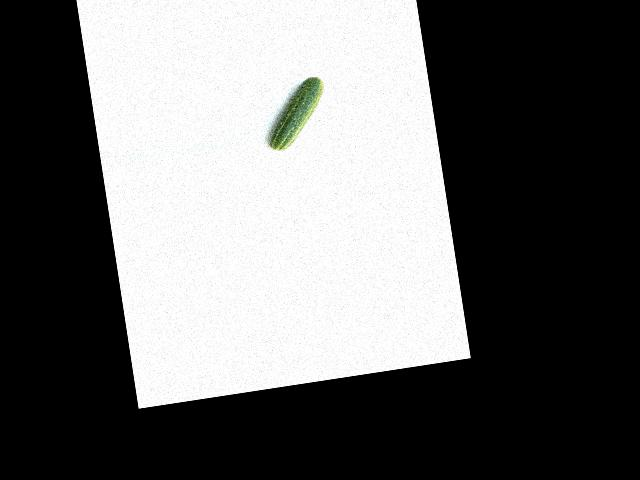cucumber: (260, 76, 332, 152)
